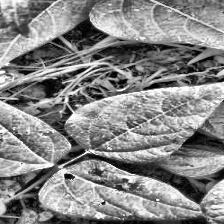ALS: (75, 73, 224, 161), (45, 161, 199, 221), (0, 97, 59, 175)
